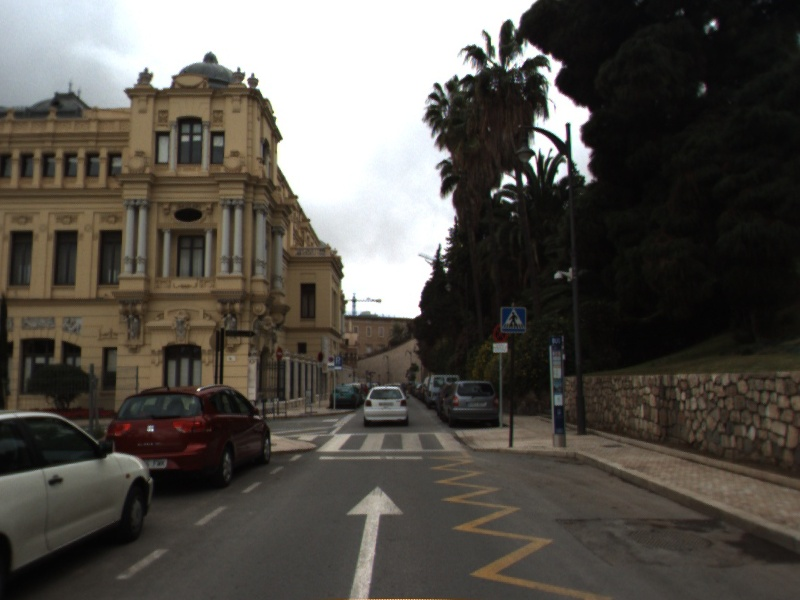STRAIGHT: (342, 484, 408, 600)
